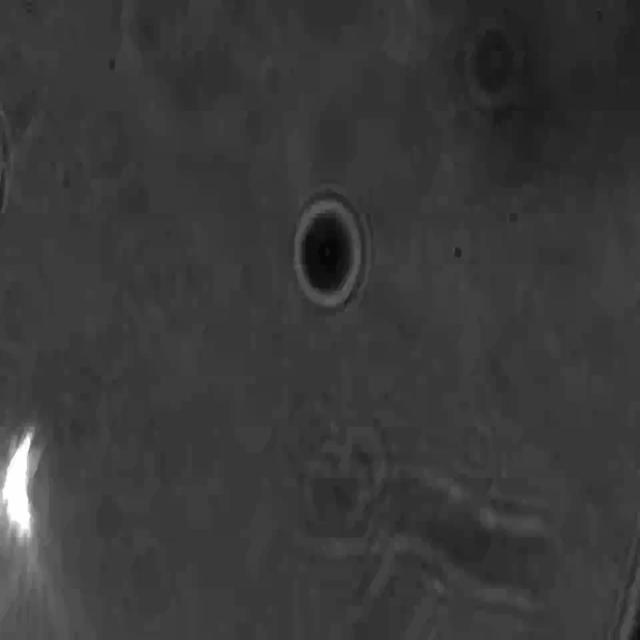DCELL: (288, 187, 364, 316)
